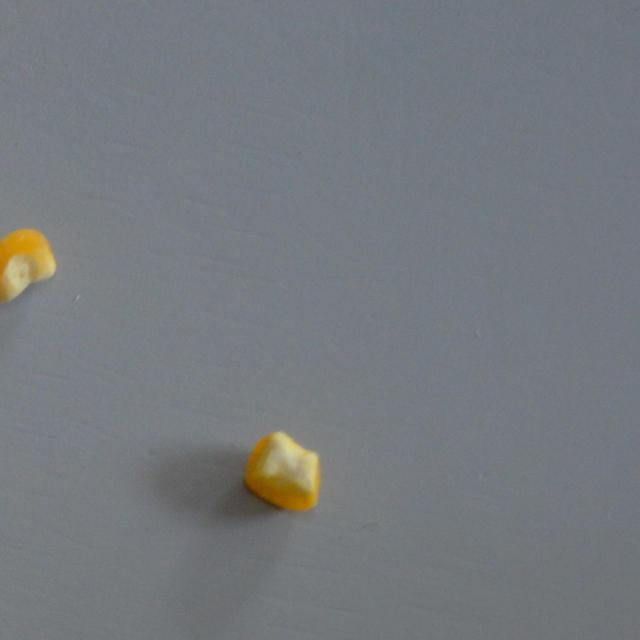no_desgerminado: (240, 428, 324, 515), (0, 224, 58, 306)
